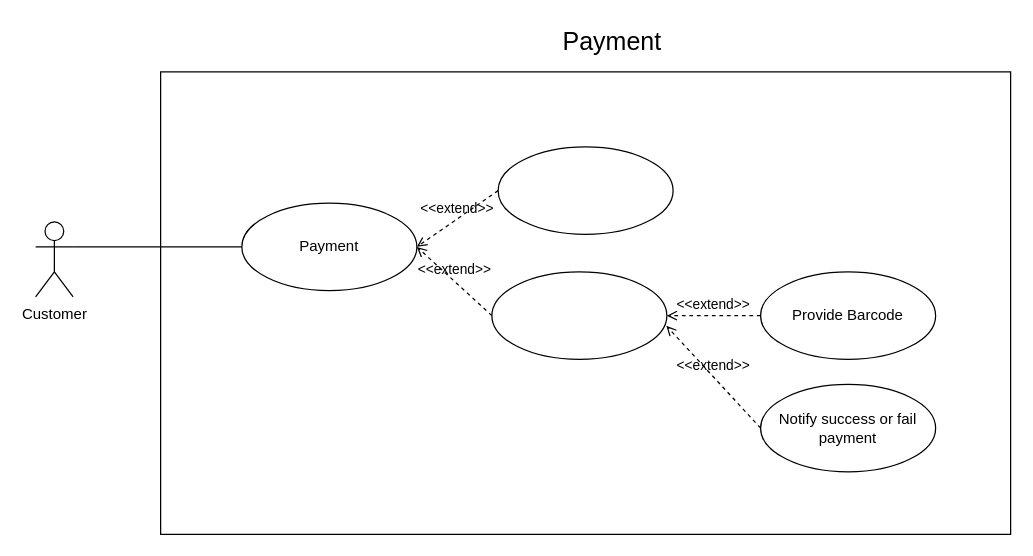
This 1033x556 diagram has some shape labels left out. The shapes that lost their labels are listed below. From the top down, each one's centre as x and y in pixels, then its label:
At point (585, 190): "Payment by cash".
At point (579, 315): "Payment banking".
